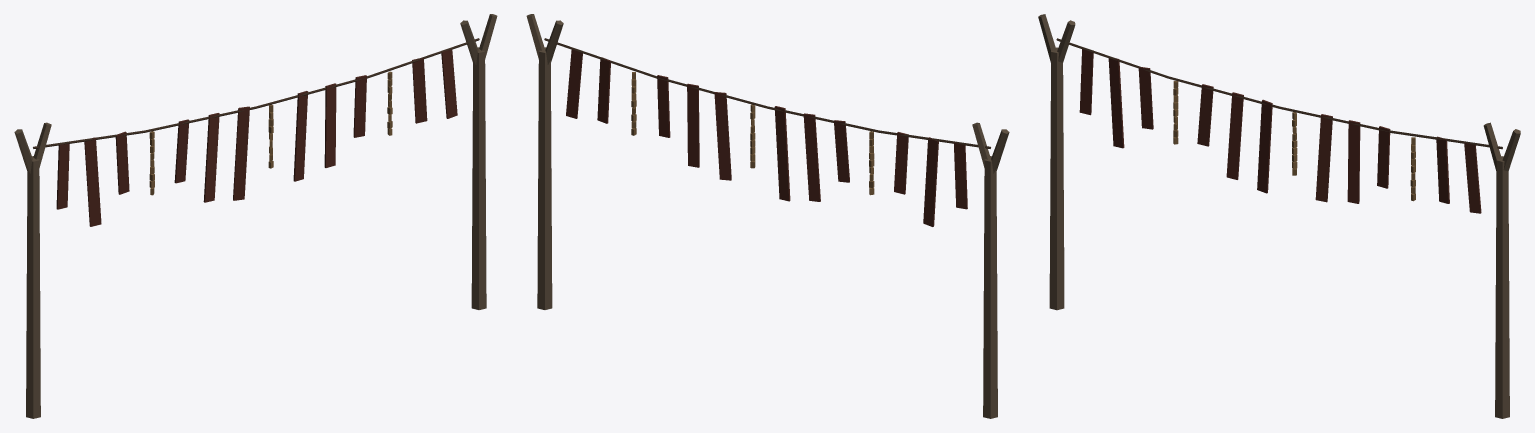
File: secadero.glb
The picture shows the model from 3 angles, left to right: view 1: azimuth 30°, elevation 25°; view 2: azimuth 150°, elevation 25°; view 3: azimuth 330°, elevation 25°; orthographic projection.
Visible parts, largest first — view 1: Secadero; view 2: Secadero; view 3: Secadero.
Part boxes in pixels (x1=…): Secadero: x1=14, y1=14, x2=497, y2=418; Secadero: x1=526, y1=14, x2=1009, y2=418; Secadero: x1=1038, y1=14, x2=1520, y2=418.
Bounding box in the file's own units: 3.24 × 1.86 × 0.0866.
